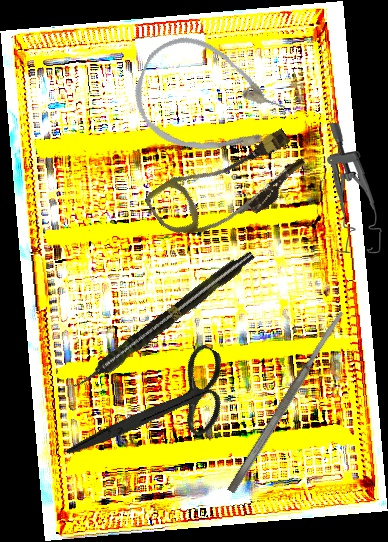Cannula: (121, 23, 296, 179), (142, 111, 314, 262)
Handpiece: (69, 246, 258, 396)
Iris Scissors: (63, 310, 248, 511)
Spatula Surgical: (225, 309, 348, 495)
Speculum: (323, 123, 386, 254)
